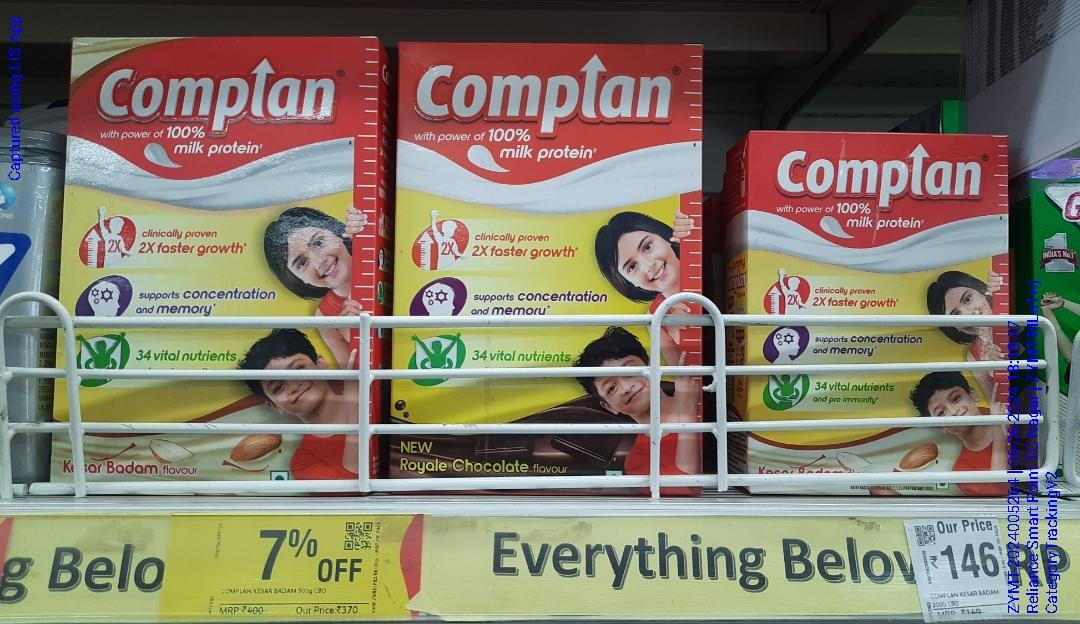COMPLAN_CHOCOLATE_500_GMS_PACK: (403, 45, 697, 494)
COMPLAN_KESAR_BADAM_200_GMS_PACK: (754, 136, 1022, 500)
COMPLAN_KESAR_BADAM_500_GMS_PACK: (65, 29, 377, 485)
